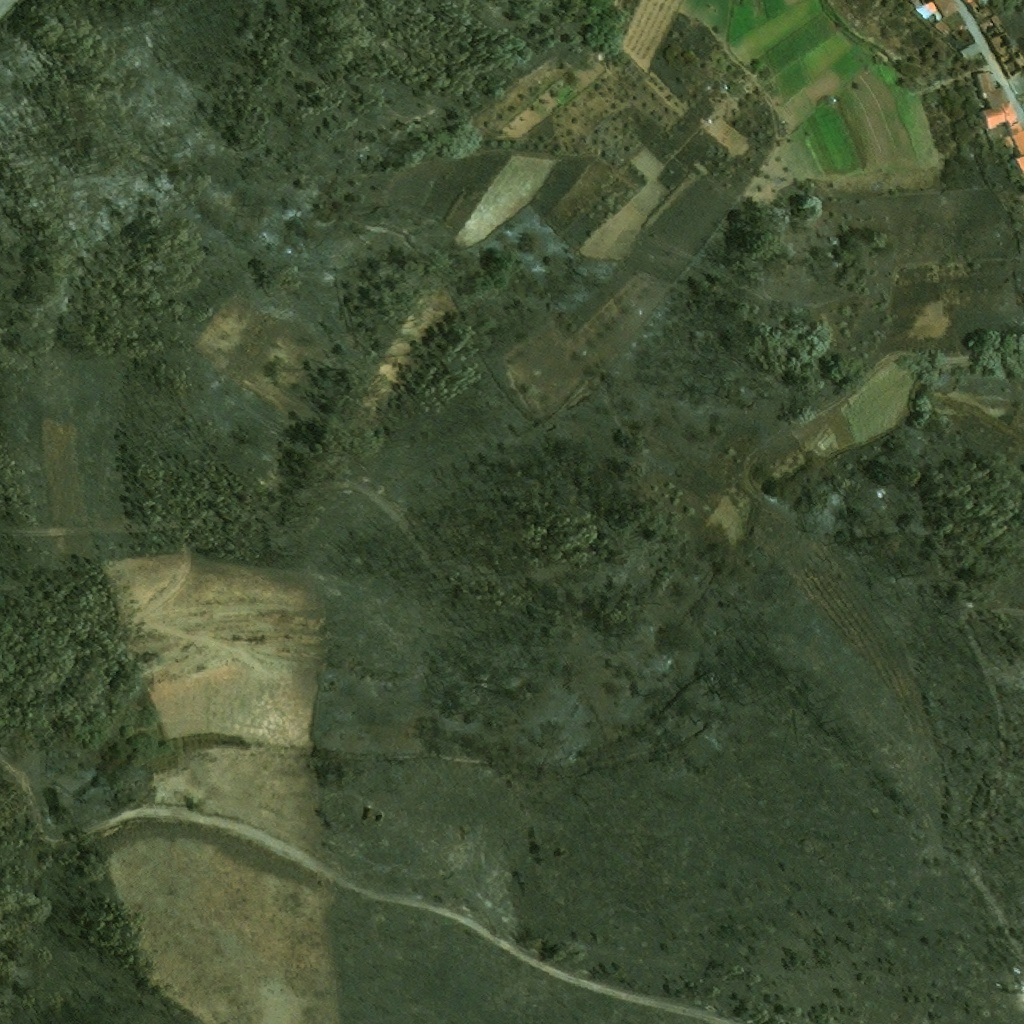0 no-damage: (974, 72, 1009, 106), (982, 101, 1019, 129), (909, 0, 944, 23), (931, 0, 960, 18), (1008, 121, 1023, 155), (958, 42, 981, 62), (935, 21, 952, 36)
3 destroyed: (977, 12, 1007, 39), (998, 48, 1023, 76), (989, 30, 1015, 53), (963, 0, 988, 17)
4 un-classified: (1014, 156, 1023, 173)
